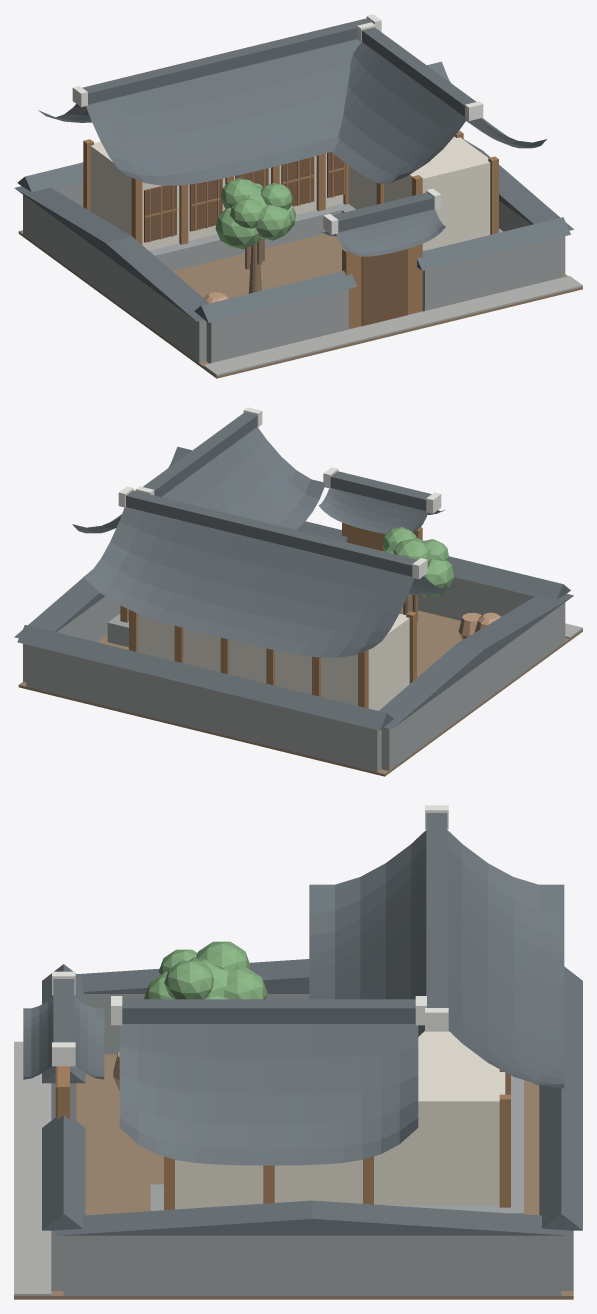
The model's file is hanok.fbx.
3 renders of one model, top to bottom at view 1: azimuth 30°, elevation 25°; view 2: azimuth 150°, elevation 25°; view 3: azimuth 270°, elevation 25°, orthographic. The views are drawn at different scales.
Parts seen in each view (by area): view 1: hanok; view 2: hanok; view 3: hanok.
Boxes of the visible parts, x1,y1,x2,y2 form: hanok: [14, 14, 582, 378]; hanok: [14, 407, 582, 776]; hanok: [14, 805, 582, 1299].
Size of the model in its own units: 990 by 441 by 915.
